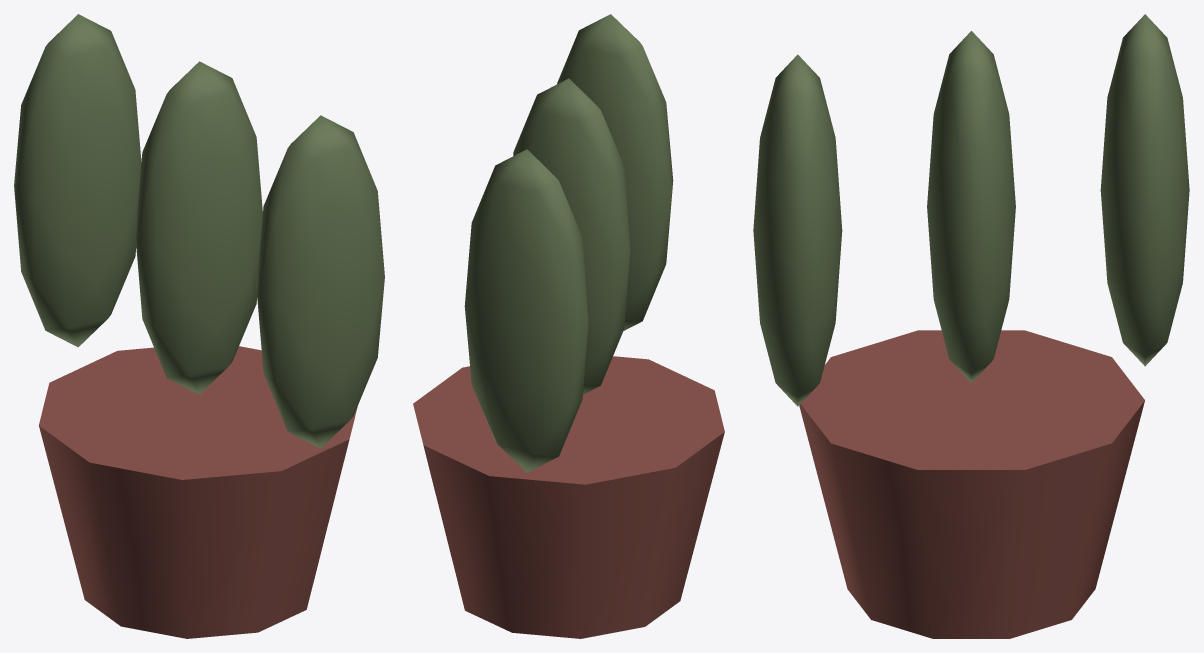
File: plant.glb
The picture shows the model from 3 angles, left to right: view 1: azimuth 30°, elevation 25°; view 2: azimuth 150°, elevation 25°; view 3: azimuth 270°, elevation 25°; orthographic projection. The views are drawn at different scales.
Visible parts, largest first — view 1: plant; view 2: plant; view 3: plant.
Boxes of the visible parts, x1,y1,x2,y2 form: plant: [14, 14, 384, 638]; plant: [413, 14, 724, 638]; plant: [753, 14, 1189, 638].
Bounding box in the file's own units: 0.6657 × 1.24 × 0.8792.
